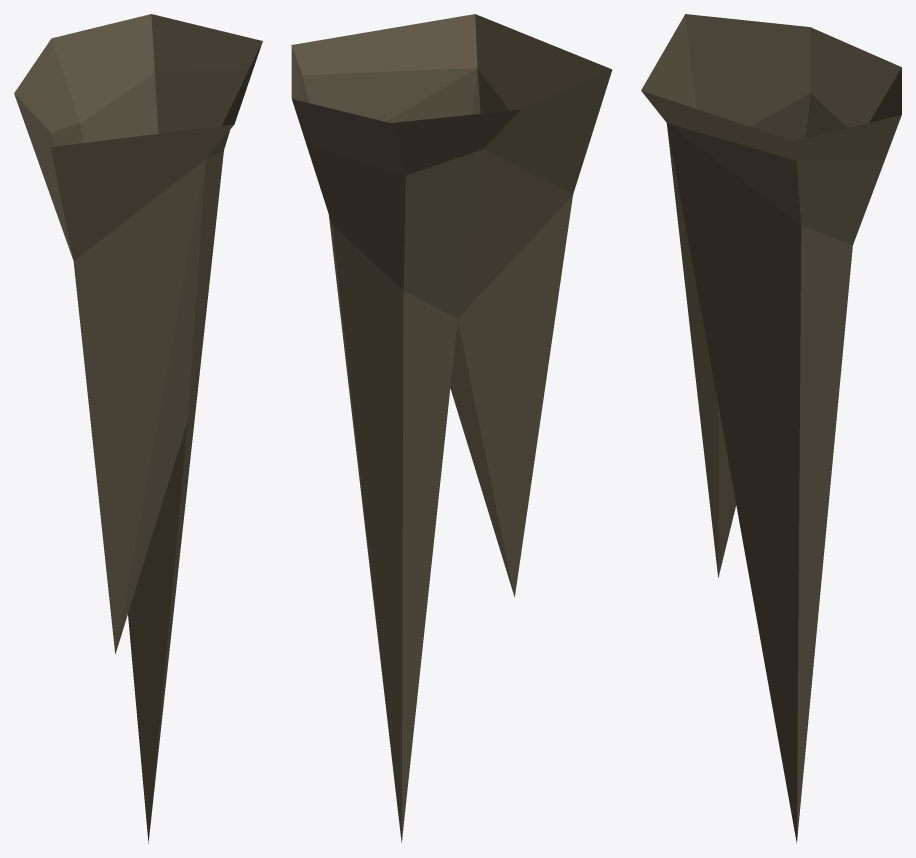
Rendered from Stalacmite-C03.fbx.
3 views of the same model, side by side, from view 1: azimuth 30°, elevation 25°; view 2: azimuth 150°, elevation 25°; view 3: azimuth 270°, elevation 25° (orthographic). The views are drawn at different scales.
Parts seen in each view (by area): view 1: Stalacmite-C03; view 2: Stalacmite-C03; view 3: Stalacmite-C03.
Part boxes in pixels (box(x1,y1,x2,y2)): Stalacmite-C03: box(14, 14, 262, 843); Stalacmite-C03: box(291, 14, 612, 842); Stalacmite-C03: box(641, 14, 901, 843).
Size of the model in its own units: 99.61 by 276 by 86.27.
